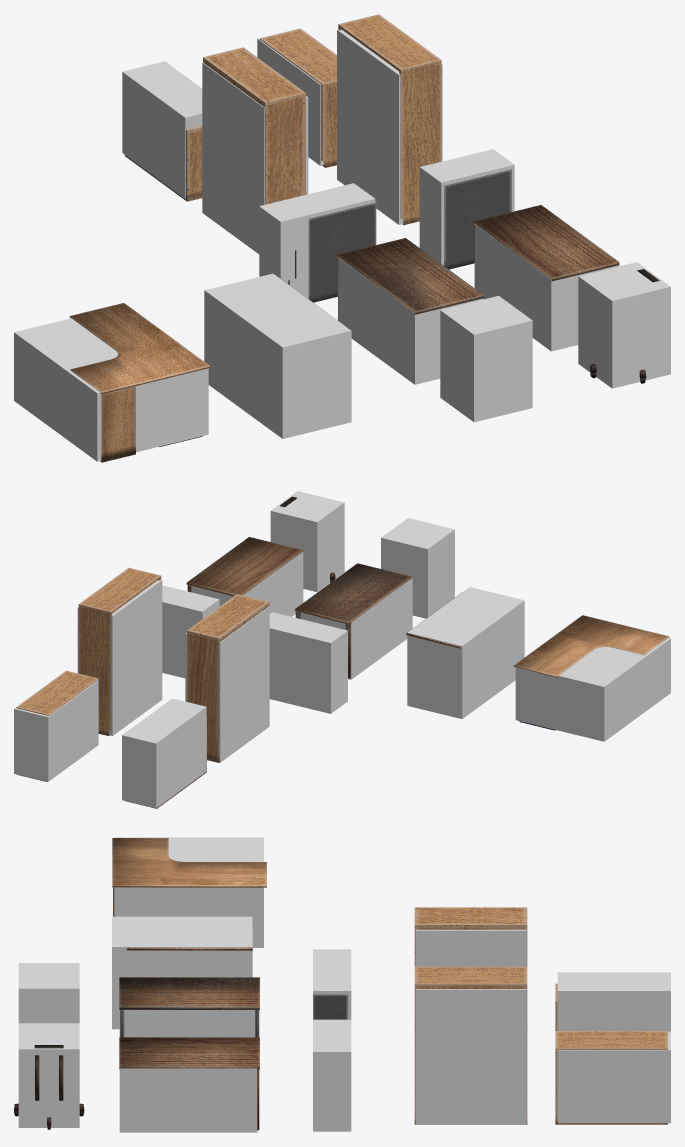
File: office_furniture_props01.glb
The picture shows the model from 3 angles, top to bottom: view 1: azimuth 30°, elevation 25°; view 2: azimuth 150°, elevation 25°; view 3: azimuth 270°, elevation 25°; orthographic projection. The views are drawn at different scales.
Parts seen in each view (by area): view 1: desk03-col, desk04-col, chair02-col, chair01-col, cupboard01-col, cupboard02-col, desk04, cupboard01, cabinet02-col, desk02.col, cupboard02, desk01-col (+10 smaller); view 2: desk03-col, desk04-col, cabinet02-col, file_cabinet02-col, cupboard01-col, cupboard02-col, cabinet01-col, chair02-col, chair01-col, cupboard02, cupboard01, desk04 (+7 smaller); view 3: cupboard01-col, desk01-col, desk03-col, cabinet01-col, desk04-col, cabinet02-col, chair01-col, desk04, desk01, file_cabinet01-col, cupboard02-col, chair02-col (+10 smaller).
Part boxes in pixels (x1,y1,x2,y2): desk03-col: [204, 273, 351, 438]; desk04-col: [14, 318, 208, 461]; chair02-col: [440, 296, 532, 422]; chair01-col: [578, 262, 670, 388]; cupboard01-col: [337, 29, 442, 224]; cupboard02-col: [202, 62, 308, 253]; desk04: [69, 303, 209, 462]; cupboard01: [338, 14, 441, 225]; cabinet02-col: [122, 61, 202, 198]; desk02.col: [338, 257, 482, 384]; cupboard02: [203, 47, 305, 253]; desk01-col: [475, 224, 619, 351]; desk03-col: [407, 587, 524, 718]; desk04-col: [515, 637, 670, 741]; cabinet02-col: [122, 698, 206, 808]; file_cabinet02-col: [269, 612, 347, 713]; cupboard01-col: [77, 580, 162, 735]; cupboard02-col: [185, 606, 269, 762]; cabinet01-col: [14, 680, 98, 781]; chair02-col: [381, 518, 454, 618]; chair01-col: [270, 491, 344, 592]; cupboard02: [187, 594, 269, 762]; cupboard01: [78, 567, 161, 735]; desk04: [513, 615, 669, 730]; cupboard01-col: [415, 989, 526, 1124]; desk01-col: [119, 1068, 257, 1132]; desk03-col: [112, 916, 252, 1029]; cabinet01-col: [557, 1031, 670, 1123]; desk04-col: [114, 837, 263, 947]; cabinet02-col: [557, 972, 670, 1031]; chair01-col: [18, 1023, 79, 1127]; desk04: [112, 838, 266, 916]; desk01: [119, 1037, 259, 1130]; file_cabinet01-col: [313, 1019, 351, 1131]; cupboard02-col: [415, 929, 526, 966]; chair02-col: [18, 963, 79, 1023].
Bounding box in the file's own units: 7.79 × 2.48 × 9.34.
10 materials, 10 textured.
